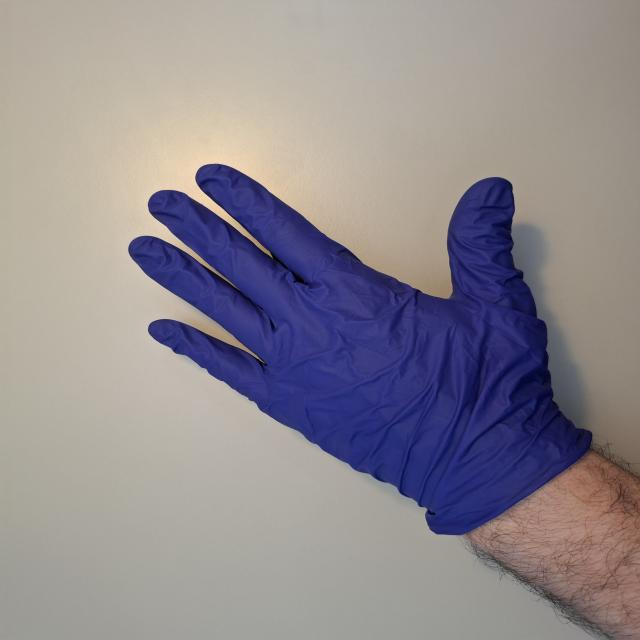glove_on: (123, 160, 569, 533)
